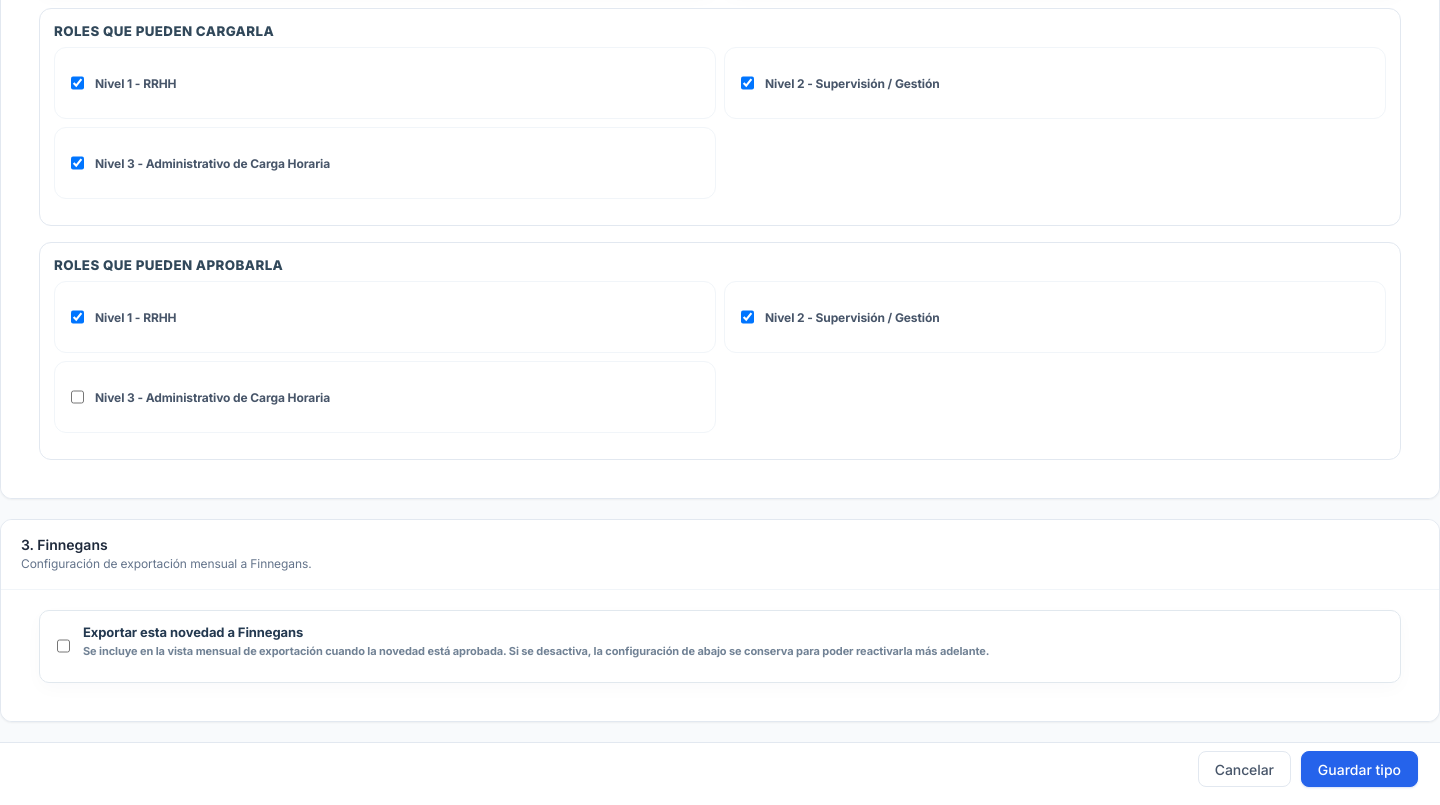
Test: NoveltyTypeCreatePage — Etapa 15L.2B › activar Finnegans muestra código, nombre y unidad, sin exportConcept/prioridad/estado del link
(page scrolled)
Expected: the heading "3. Finnegans" is shown, [21,536,108,553]
Click the checkbox labelled "Exportar esta novedad a Finnegans": (64, 646) [57,626,70,666]
(page scrolled)
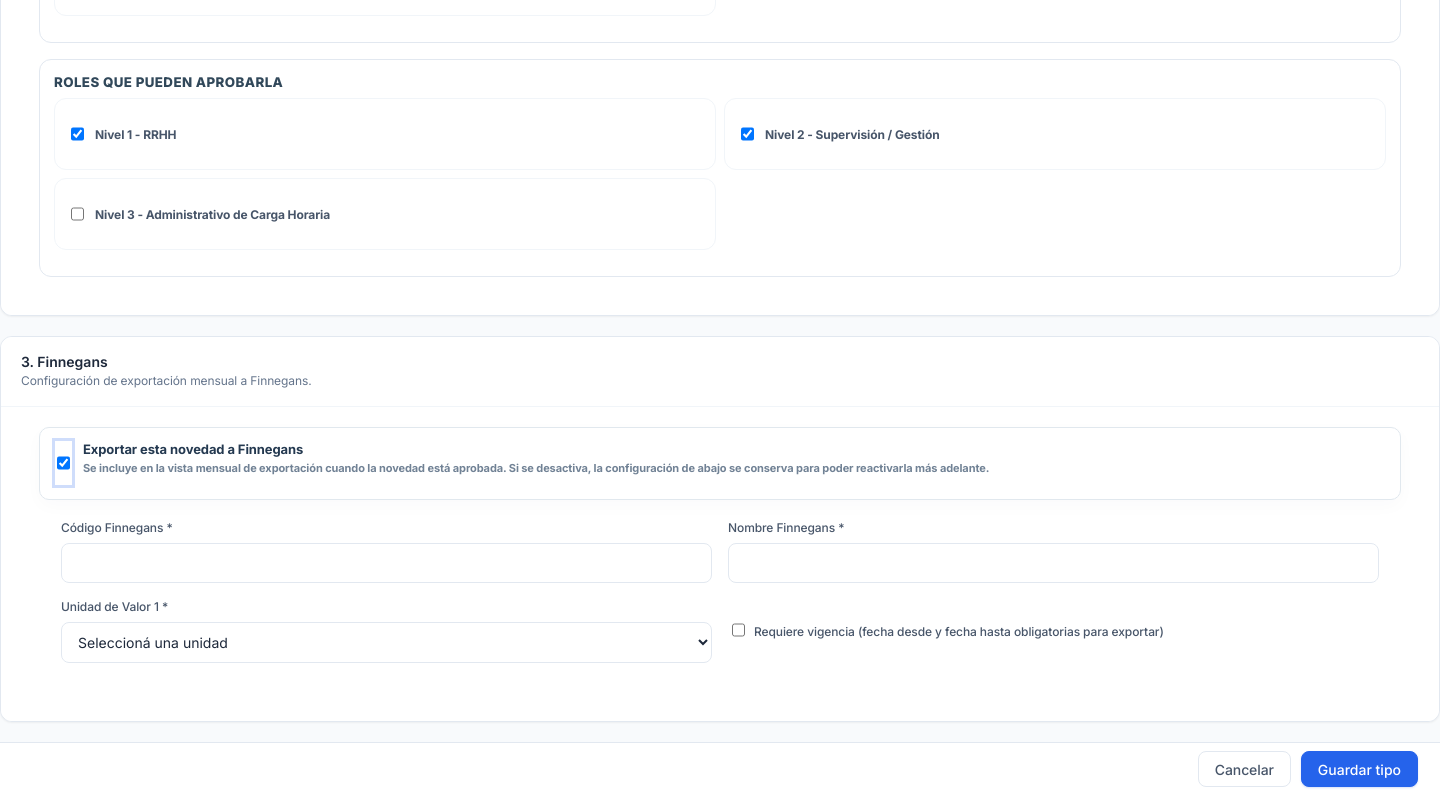
Expected: the field labelled "Código Finnegans *" is shown, [61,543,712,583]
Expected: the field labelled "Nombre Finnegans *" is shown, [728,543,1379,583]
Expected: the dropdown labelled "Unidad de Valor 1 *" is shown, [61,622,712,663]
